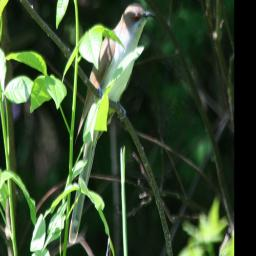Cuckoo: (68, 3, 157, 243)
